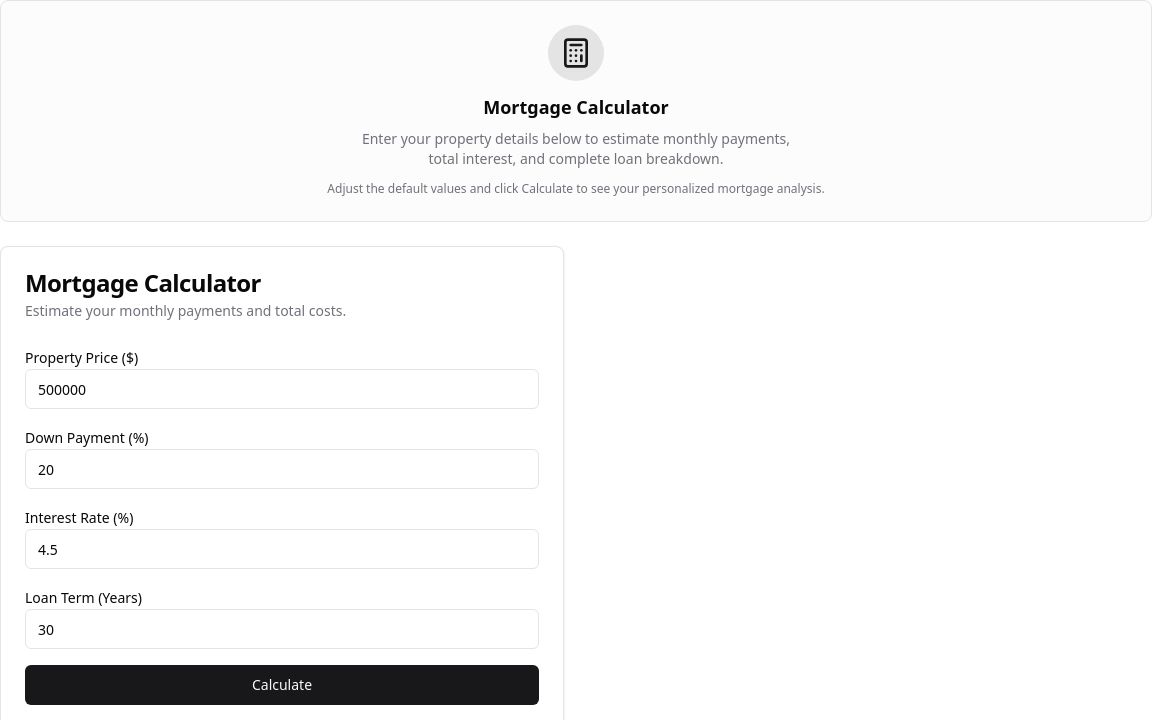
MortgageCalculator › handles errors
What coordinates should you click on to do the following:
click the button "Calculate"
I would click on:
 (282, 685)
Its box is [25,665,539,705].
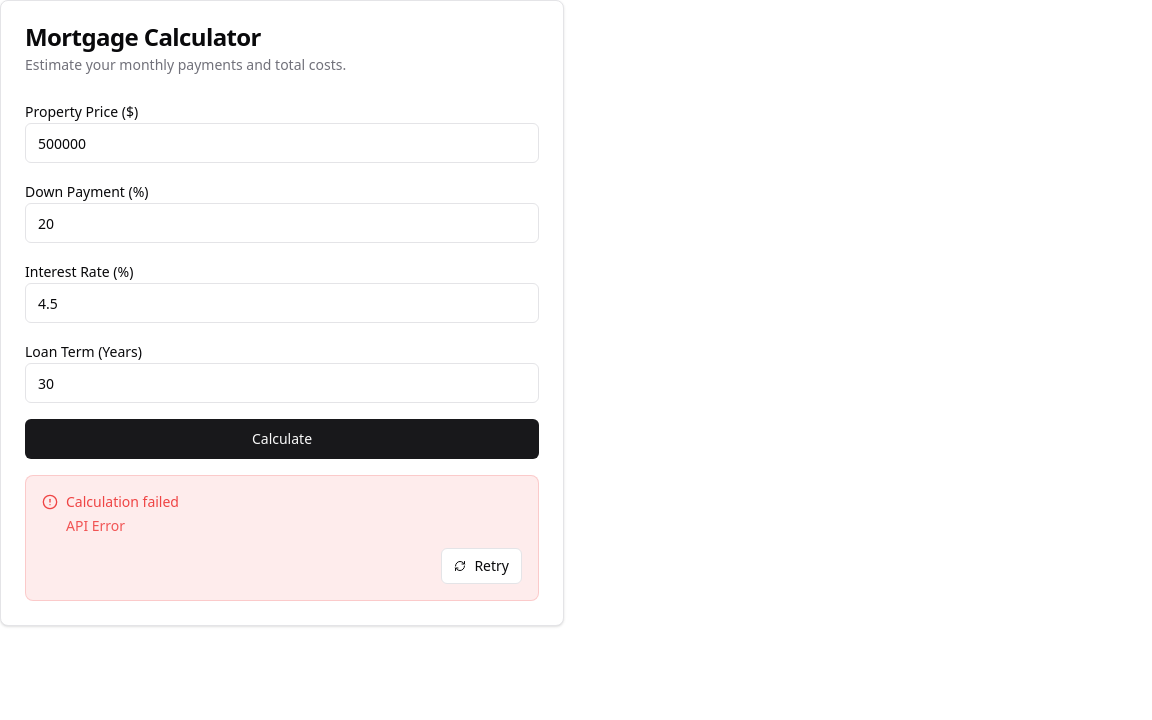
Result: the text "Calculation failed" is shown at [66,492,179,512]
